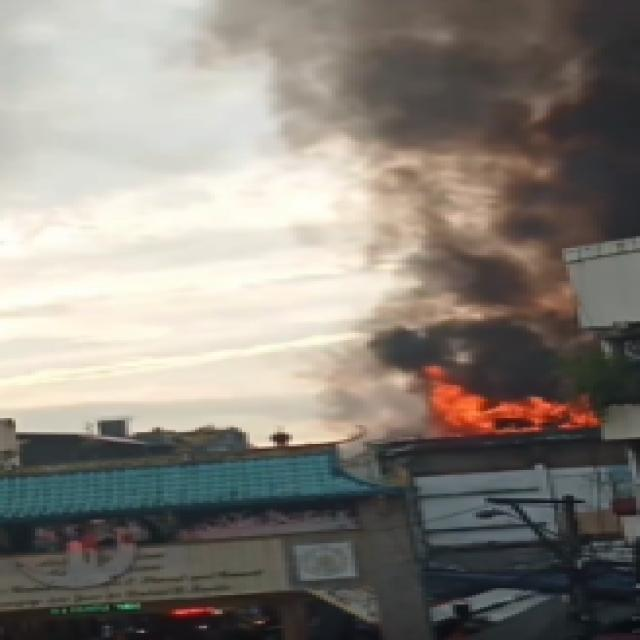Fire: (416, 362, 596, 433)
Smoke: (251, 0, 640, 403)
